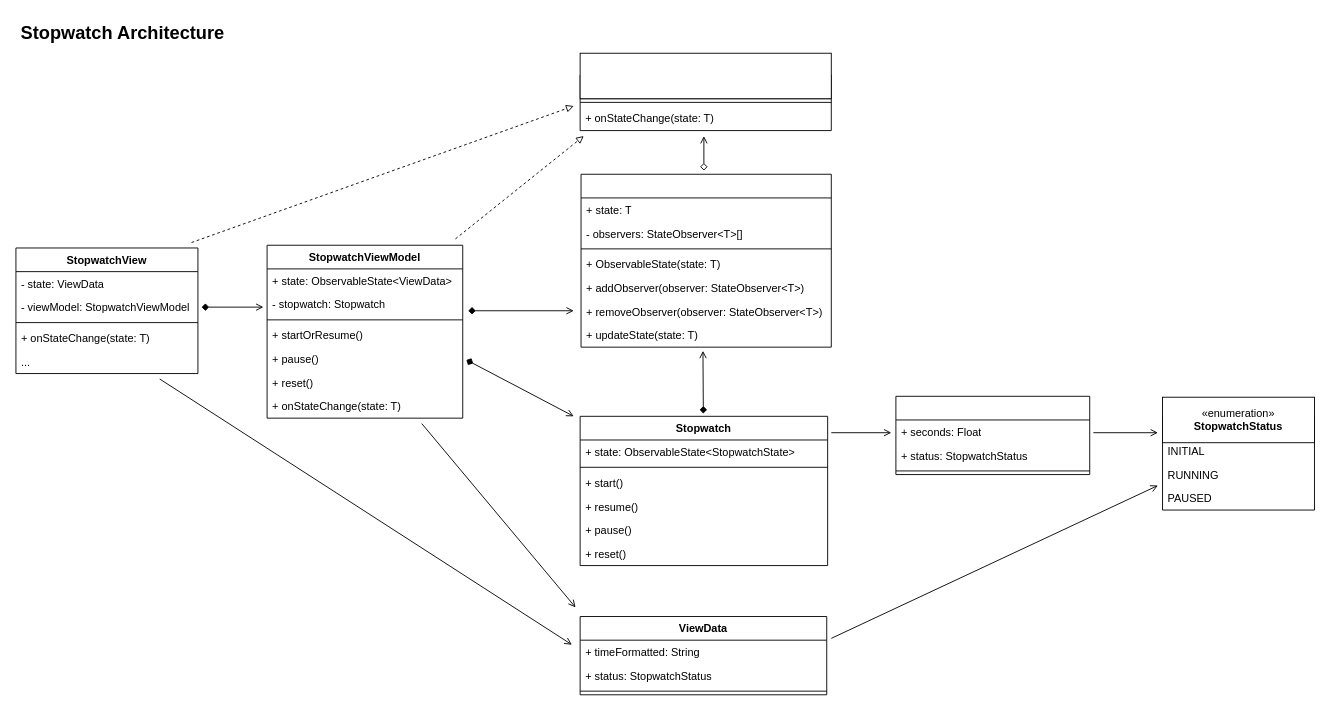
Image size: 1330x711. Some labels were removed from this diagram. Here are the shapes that lost their labels. From the top down, the box of each, then its label:
(579, 52, 831, 99): «interface» StateObserver<T>
(580, 173, 831, 347): ObservableState<T>
(895, 395, 1090, 475): StopwatchState
